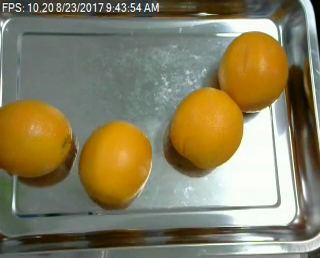Orange: (78, 120, 153, 205), (168, 85, 244, 168), (218, 30, 289, 113), (1, 99, 73, 179)
